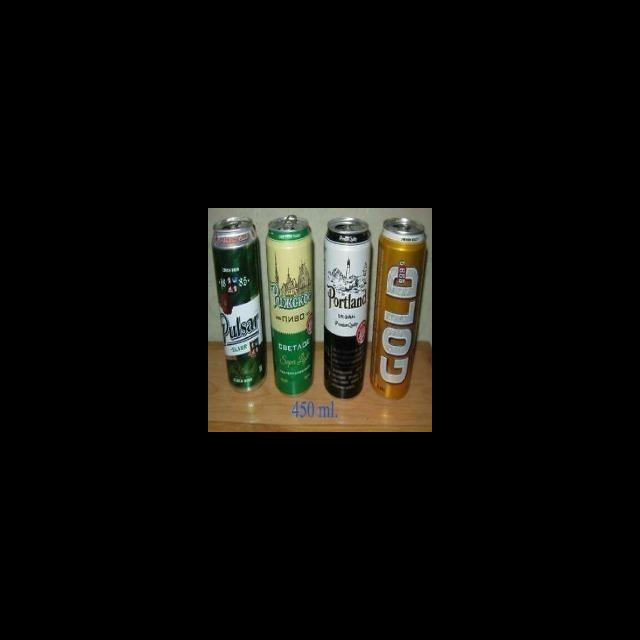metal: (265, 213, 322, 399), (210, 215, 269, 392), (373, 217, 430, 400), (322, 215, 370, 400)
